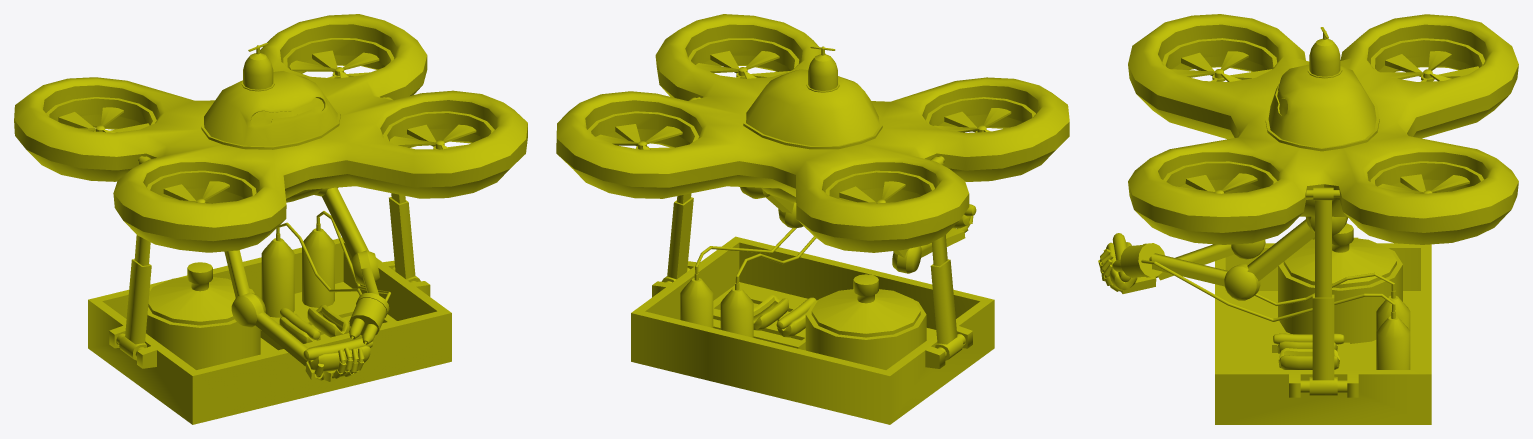
File: Hotdogdrone.glb
3 views of the same model, side by side, from view 1: azimuth 30°, elevation 25°; view 2: azimuth 150°, elevation 25°; view 3: azimuth 270°, elevation 25° (orthographic). The views are drawn at different scales.
Visible parts, largest first — view 1: drone_low; view 2: drone_low; view 3: drone_low.
Boxes of the visible parts, x1,y1,x2,y2 form: drone_low: (14,14,527,424); drone_low: (556,14,1069,424); drone_low: (1098,14,1518,424).
Size of the model in its own units: 0.1134 by 0.0862 by 0.1018.
1 material, 1 textured.
